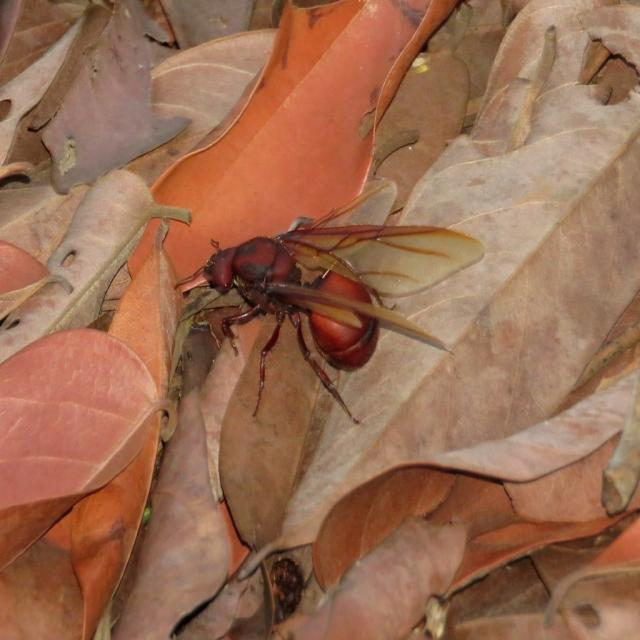Alive-Female-Alate: (173, 178, 486, 426)
